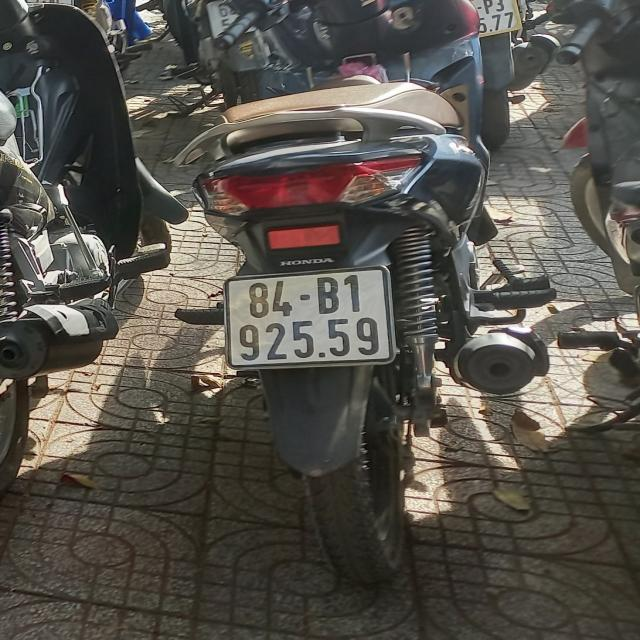1: (342, 274, 360, 313)
2: (263, 322, 291, 361)
4: (272, 280, 295, 318)
5: (328, 316, 352, 358), (293, 320, 315, 360)
8: (248, 281, 267, 315)
9: (357, 317, 381, 358), (239, 324, 261, 361)
B: (316, 274, 340, 318)
